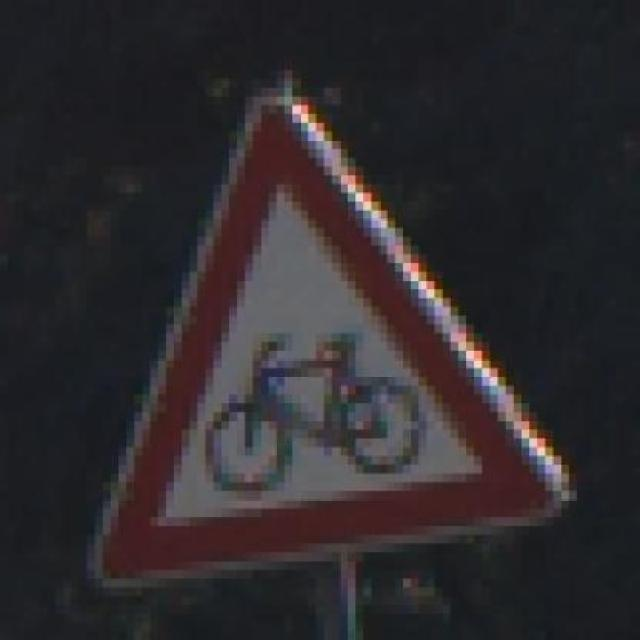CYCLE ROUTE AHEAD WARNING: (70, 88, 584, 588)
